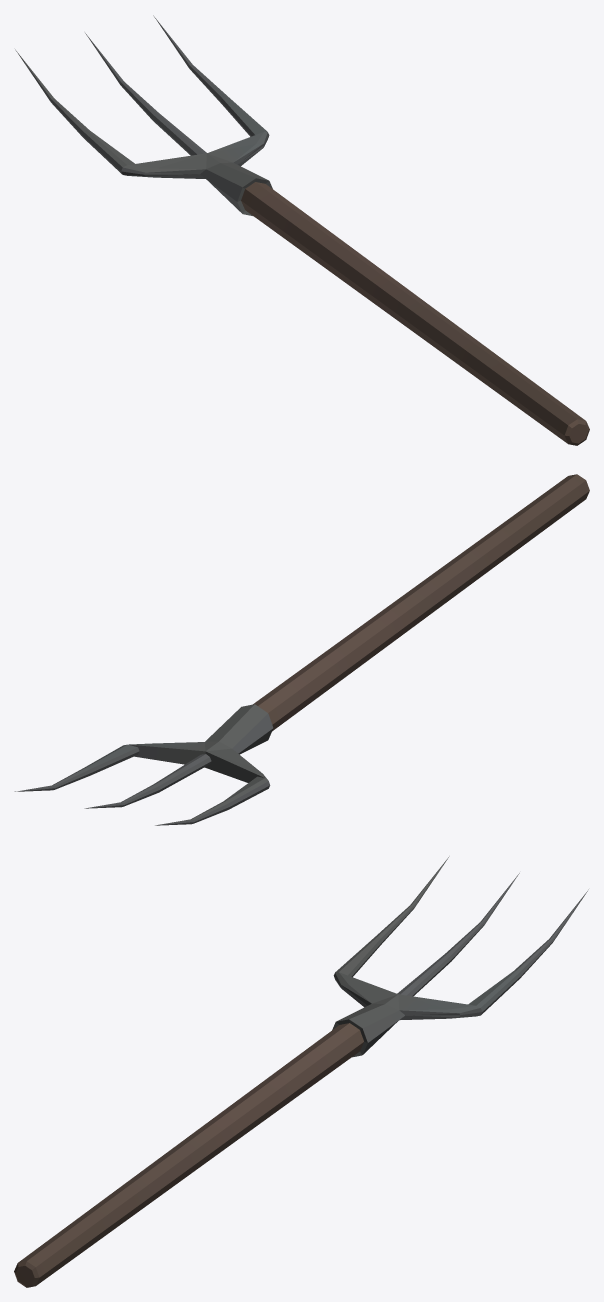
The model's file is halberd.glb.
3 views of the same model, one above another, from view 1: azimuth 30°, elevation 25°; view 2: azimuth 150°, elevation 25°; view 3: azimuth 330°, elevation 25° (orthographic).
Visible parts, largest first — view 1: Pitchfork; view 2: Pitchfork; view 3: Pitchfork.
Boxes of the visible parts, box(x1,y1,x2,y2) form: Pitchfork: box(15, 15, 589, 445); Pitchfork: box(14, 474, 589, 825); Pitchfork: box(14, 856, 588, 1287).
Size of the model in its own units: 0.5331 by 0.2072 by 3.08.
1 material, 1 textured.
